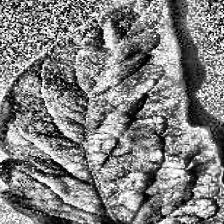Blossom Blight: (162, 153, 205, 206), (81, 50, 134, 89), (47, 138, 90, 186), (22, 75, 66, 111), (138, 1, 176, 28), (127, 47, 129, 48)
